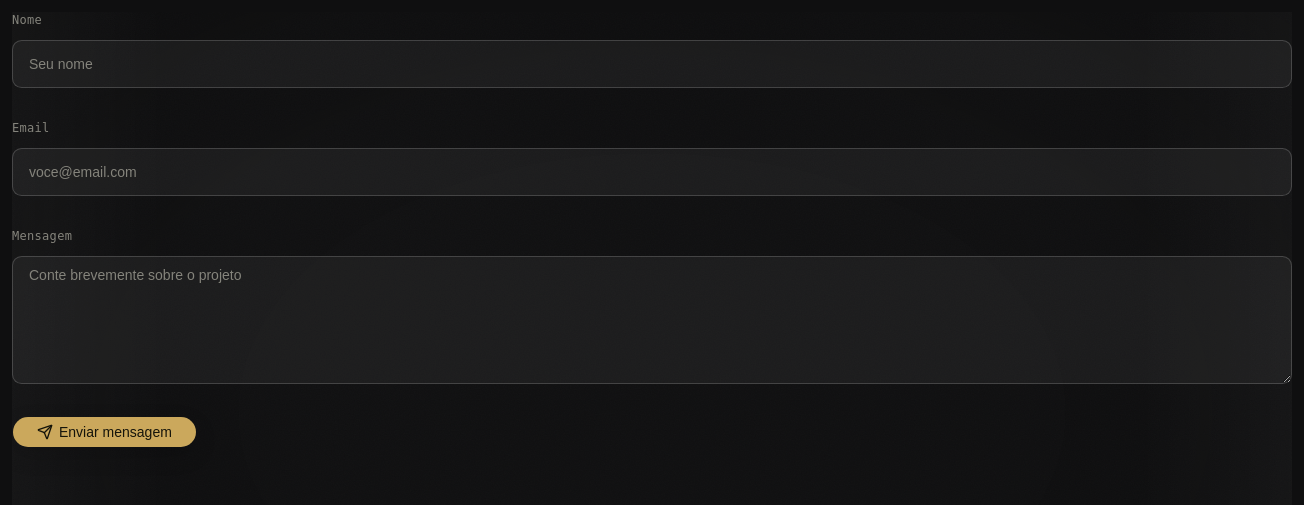
Test: ContactForm › builds a mailto action and announces the submission status
The width and height of the screenshot is (1304, 505).
Step 1. Type "Thiago" into the field labelled "Nome" → (652, 64), box [12,40,1292,88]
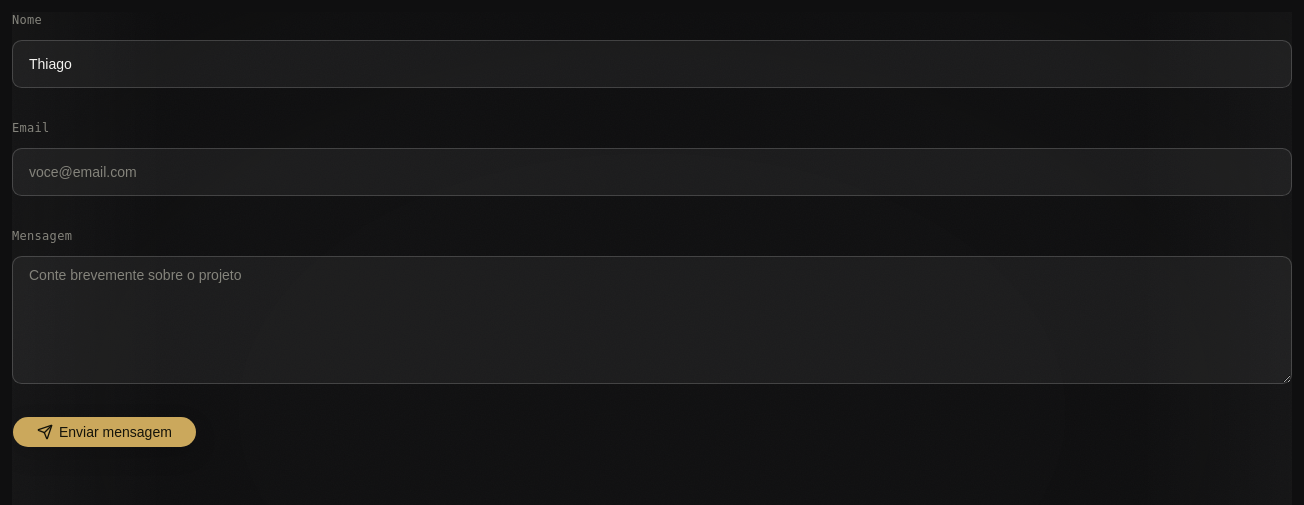
Step 2. Type "thiago@example.com" into the field labelled "Email" → (652, 172), box [12,148,1292,196]
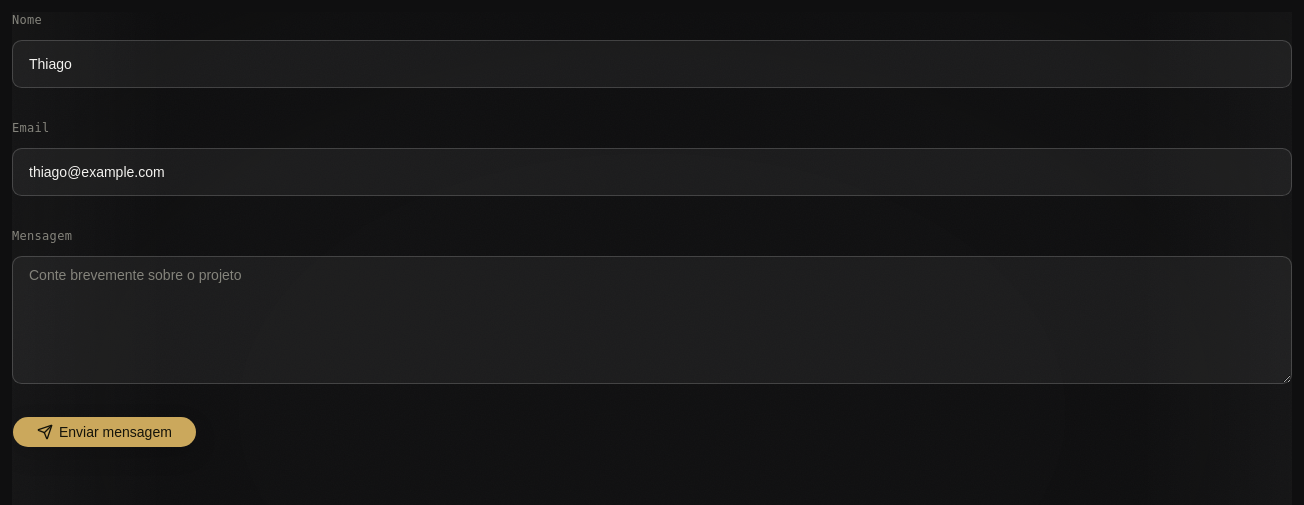
Step 3. Type "Vamos conversar sobre um projeto" into the text box labelled "Mensagem" → (652, 320), box [12,256,1292,384]
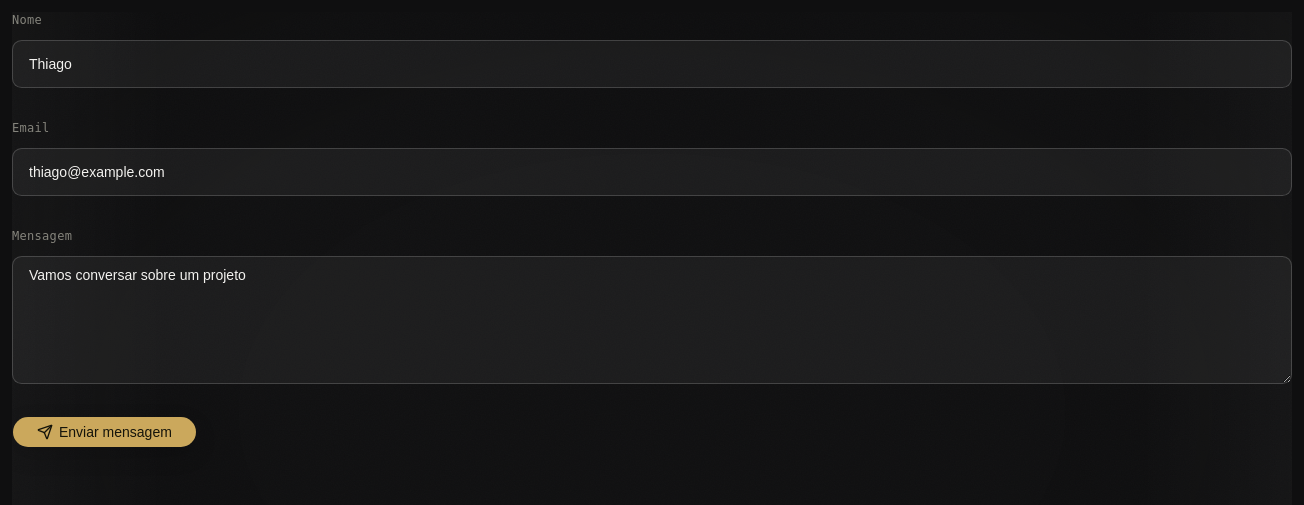
Step 4. Submit the form named "Formulário"
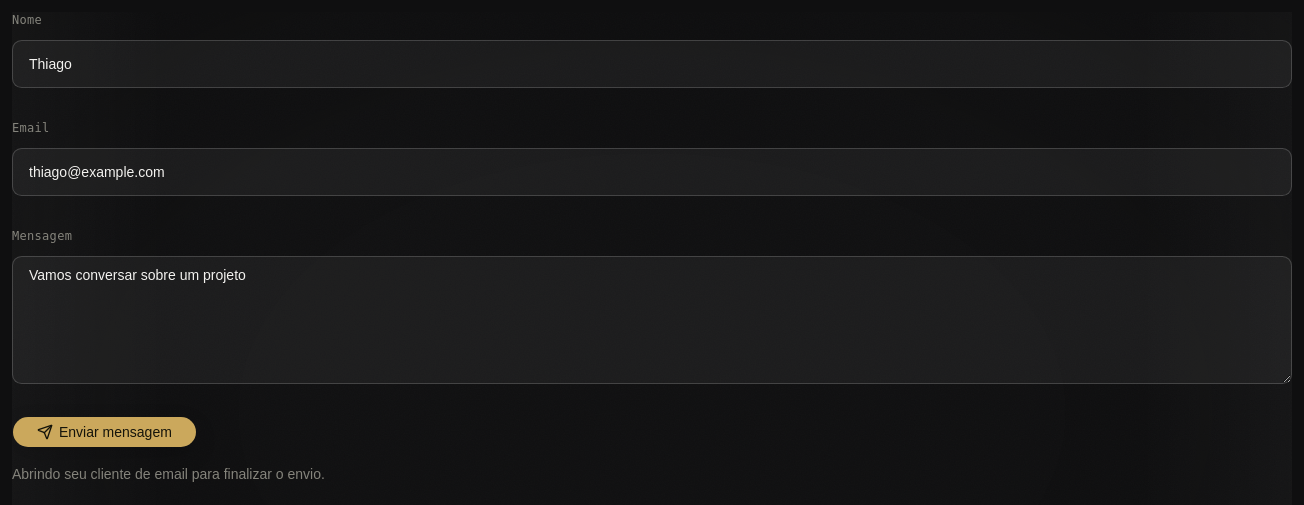
expect the text "Abrindo seu cliente de email para finalizar o envio." is shown: met, box [12,464,325,488]
